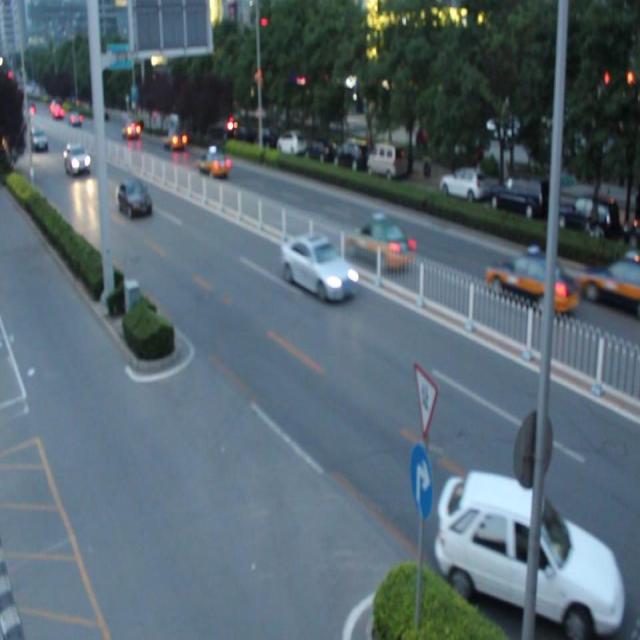car: (441, 472, 614, 624), (486, 252, 573, 316), (281, 238, 354, 301), (348, 220, 412, 269), (583, 260, 640, 312), (116, 182, 151, 217), (198, 150, 229, 177), (162, 126, 187, 154)
